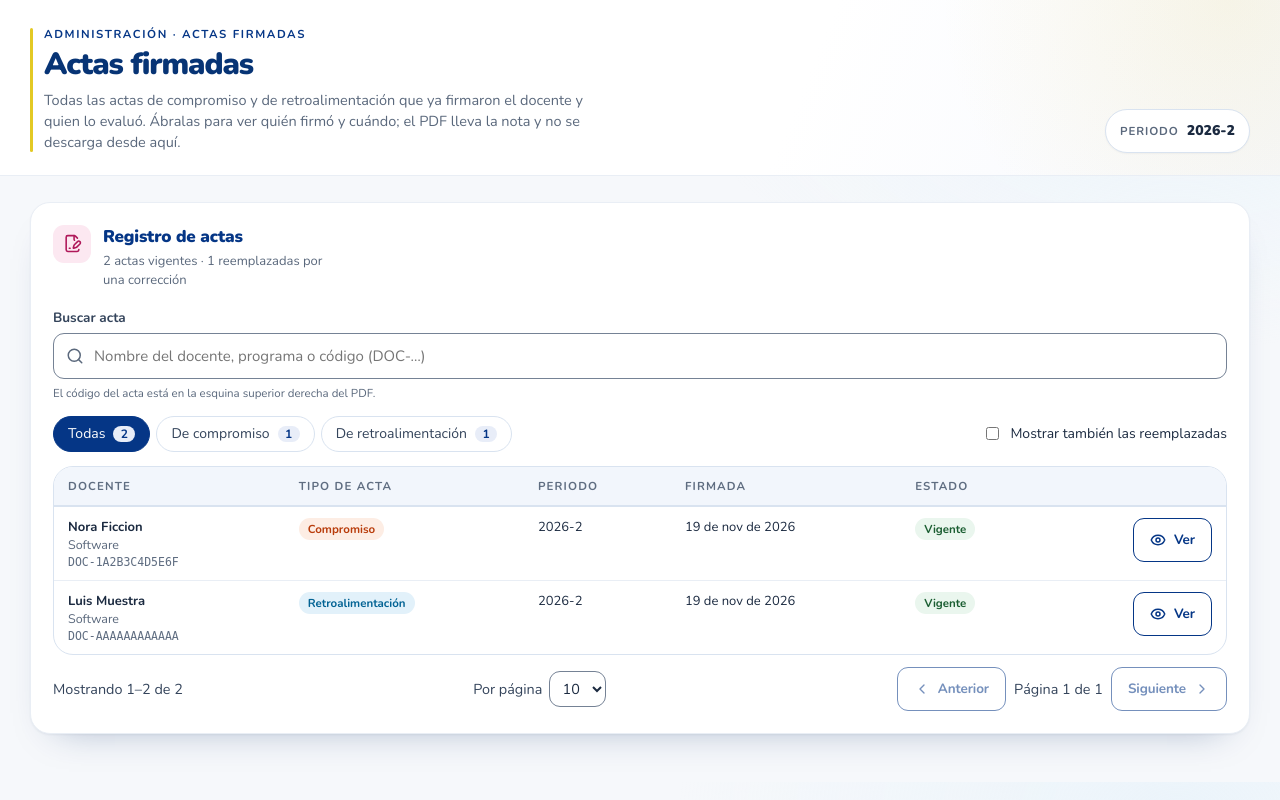
Test: BuscarActa › lista solo las vigentes y filtra por nombre y por tipo
The width and height of the screenshot is (1280, 800).
Expected: the text "Nora Ficcion" is shown, [68,518,143,536]
Expected: the text "Luis Muestra" is shown, [68,592,145,610]
Step 1. Click the button "De retroalimentación 1" → click(416, 434), box [321,416,512,452]
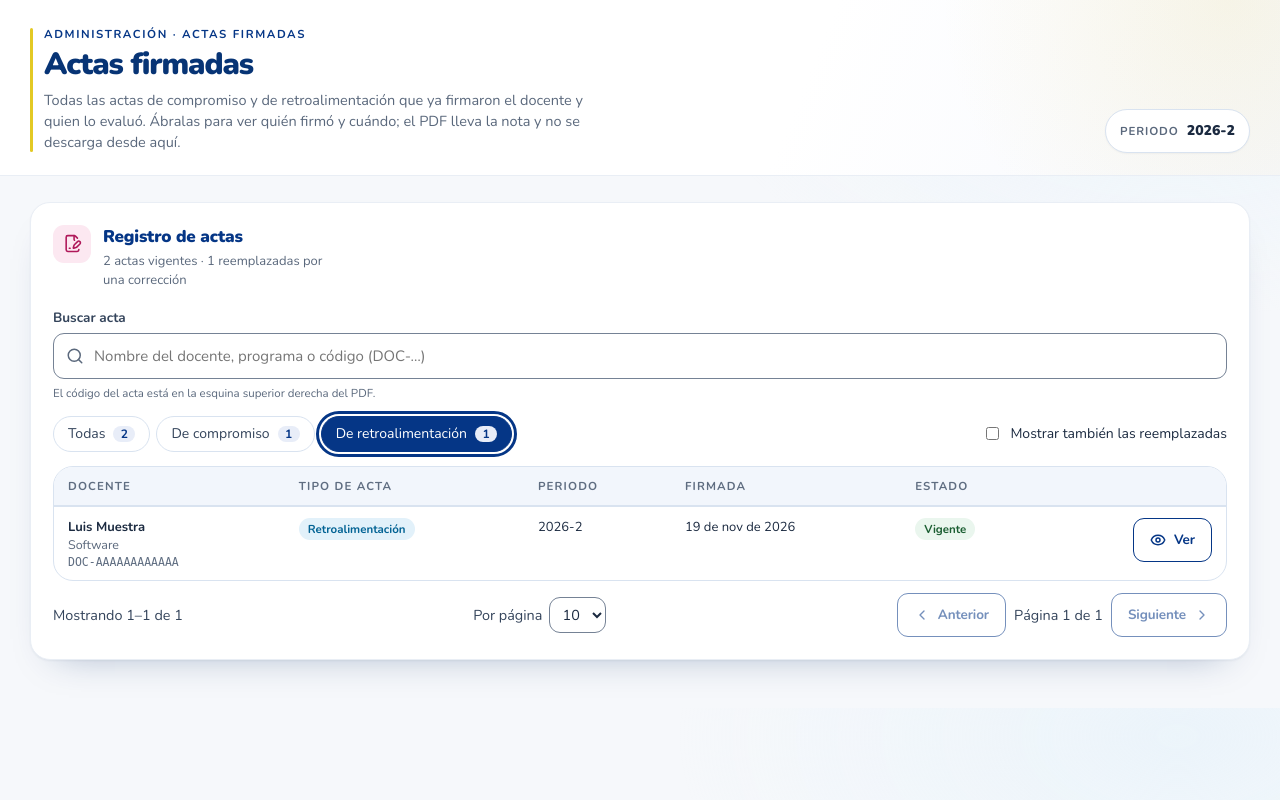
Now the text "Nora Ficcion" is gone
Step 2. Click the button "Todas 2" → click(102, 434), box [53,416,150,452]
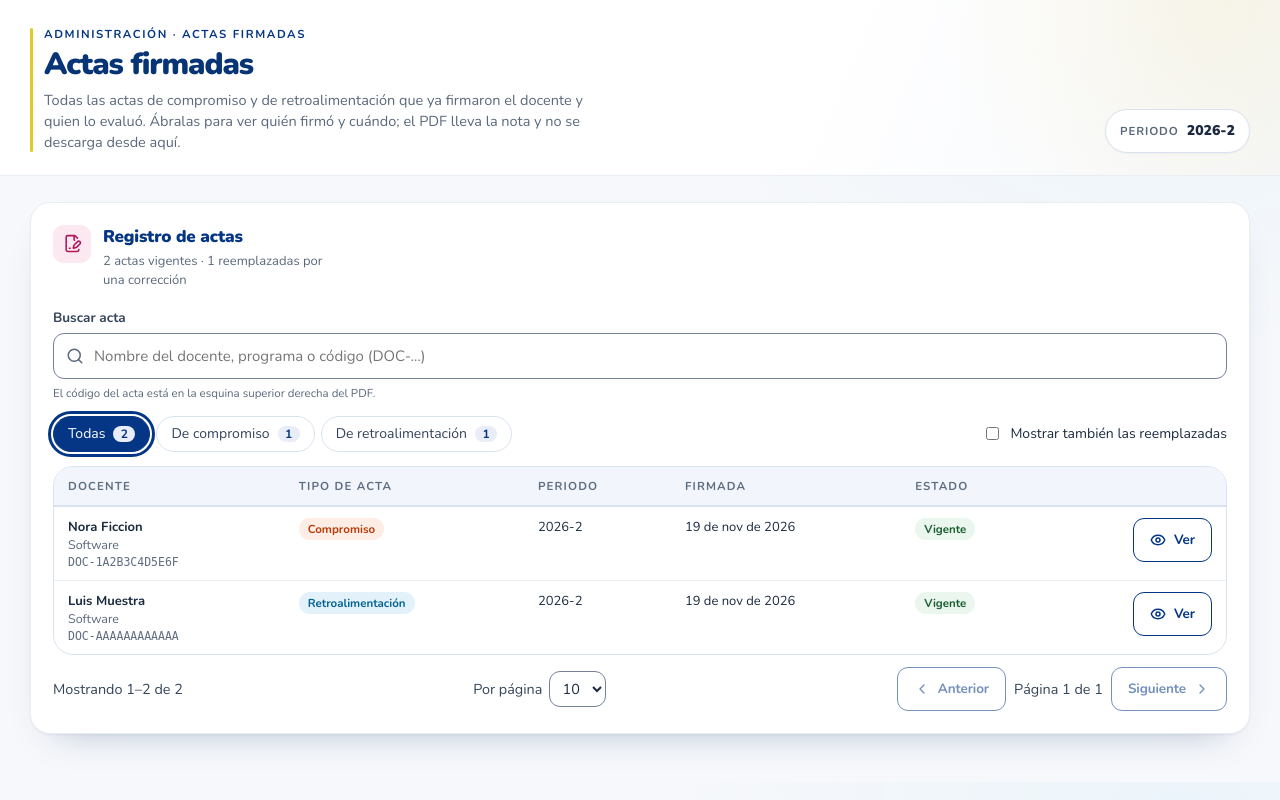
Step 3. Type "nora" into the search field labelled "Buscar acta" → (640, 356), box [53,332,1227,378]
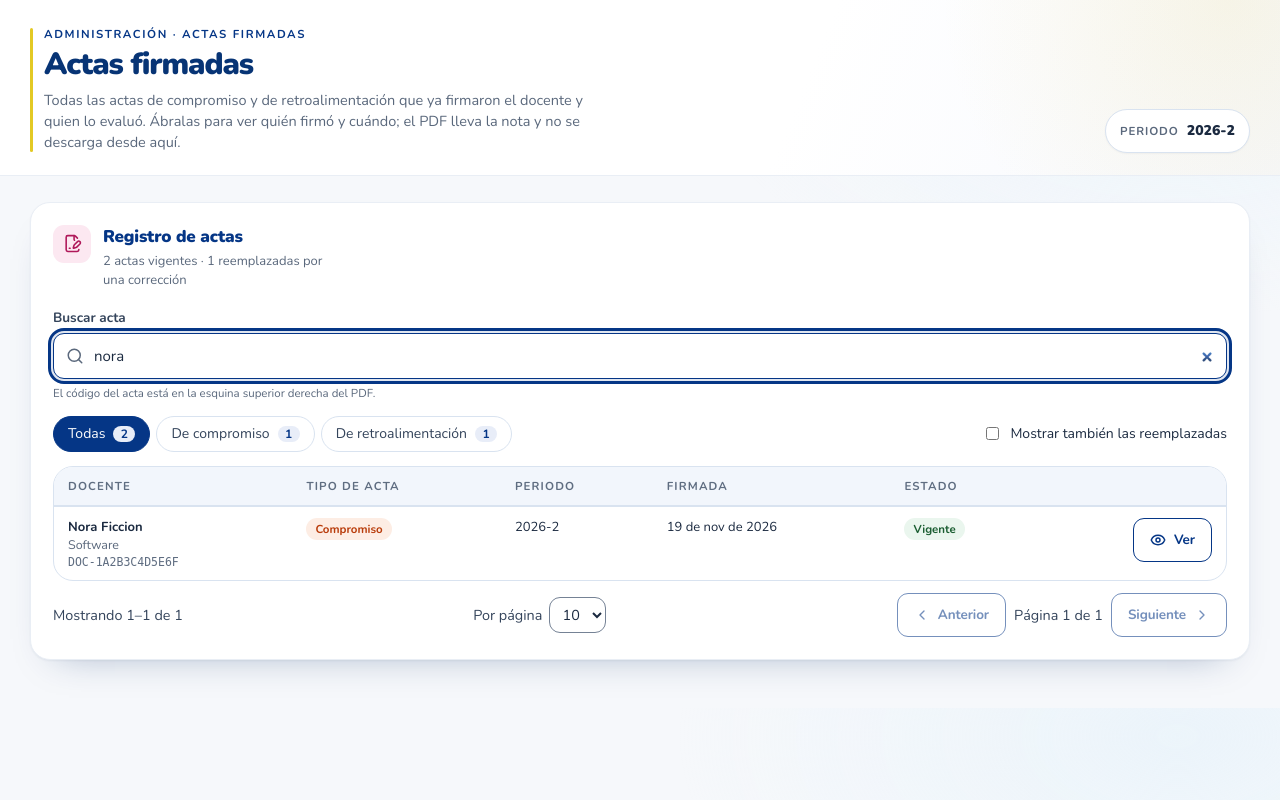
Now the text "Nora Ficcion" is shown, box [68,518,143,536]
Now the text "Luis Muestra" is gone
